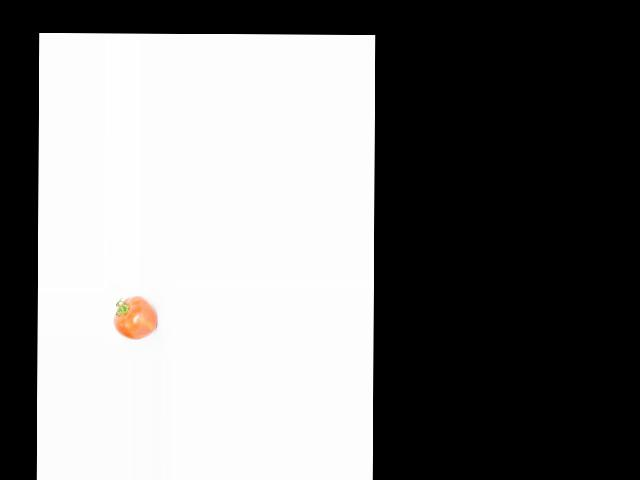tomato: (113, 296, 157, 340)
